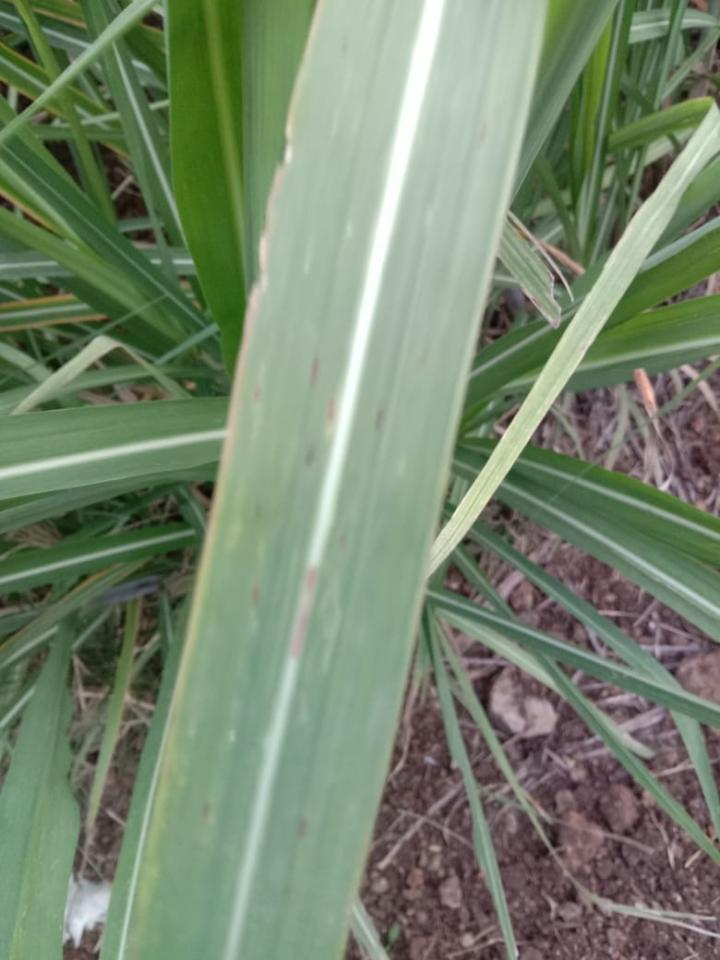RedRot: (288, 563, 322, 660)
Rust: (247, 370, 271, 405), (307, 355, 324, 393), (369, 405, 387, 435), (323, 394, 335, 435), (295, 815, 311, 844), (302, 444, 318, 471), (198, 800, 213, 824), (248, 585, 262, 609), (336, 531, 350, 551)
